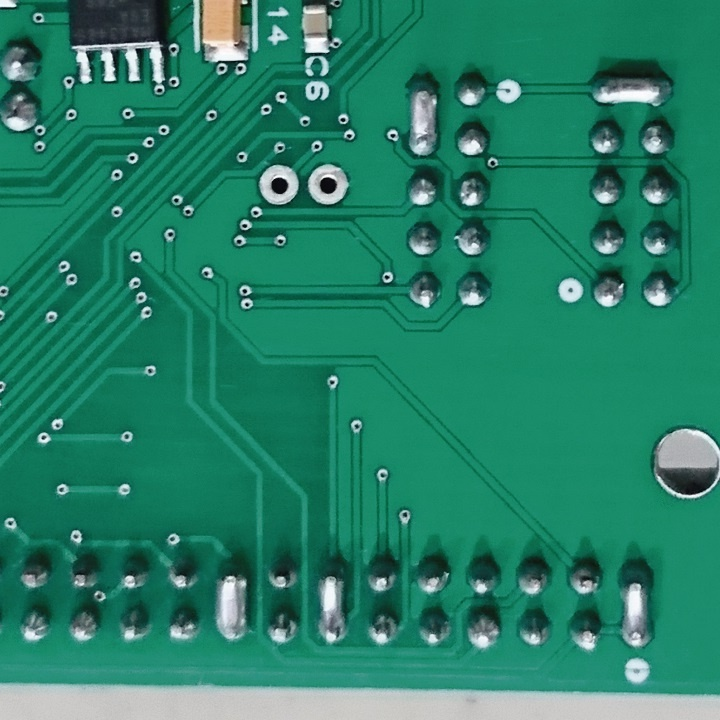F: (307, 162, 353, 209), (257, 163, 302, 208)
P: (585, 68, 680, 114), (613, 554, 656, 654), (313, 552, 354, 649), (401, 71, 444, 163), (213, 552, 252, 646)
